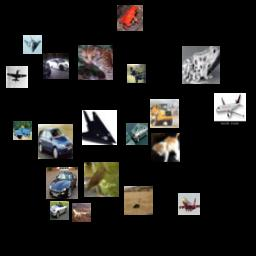airplane: (82, 110, 117, 145), (214, 93, 246, 125), (178, 193, 200, 215), (6, 66, 28, 88), (23, 35, 42, 54), (72, 203, 91, 222)
automobile: (38, 124, 73, 159), (46, 167, 78, 199), (43, 53, 69, 79), (126, 123, 148, 145), (50, 201, 69, 220)
bird: (84, 162, 119, 197), (124, 186, 153, 215)
cat: (78, 45, 113, 80), (151, 133, 180, 162)
deer: (127, 64, 146, 83)
frog: (182, 46, 220, 84), (117, 5, 143, 31)
truck: (150, 99, 179, 128), (13, 121, 32, 140)
